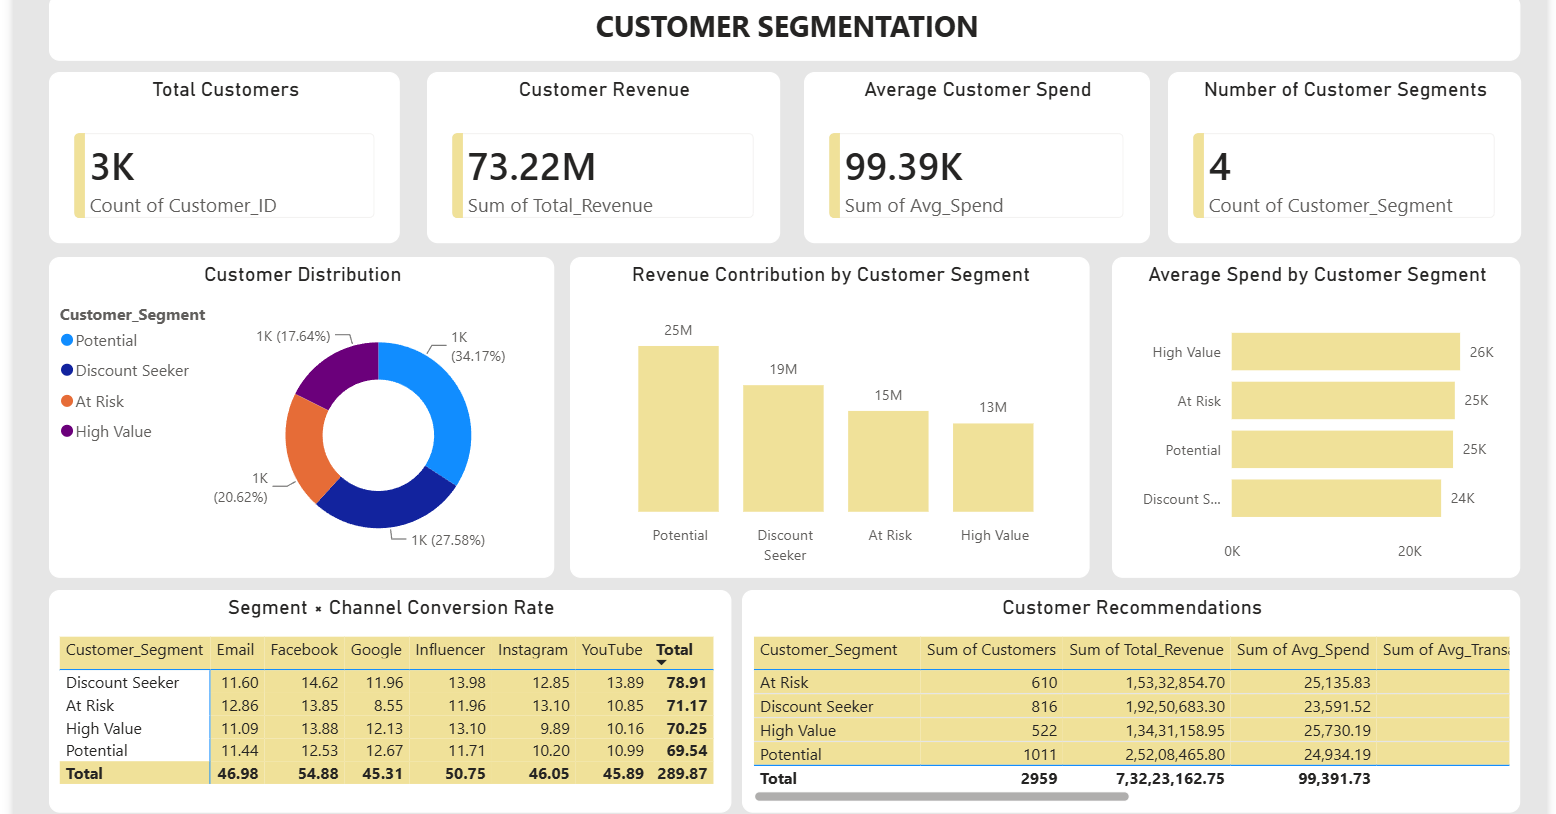

The page's visual inventory and layout, read from the dashboard file:
{"tool":"powerbi","page":{"name":"Customer Segmentation","canvas":[1280,720],"ordinal":5},"visuals":[{"type":"cardVisual","title":"Total Customers","fields":{"Data":["CountNonNull(marketing_campaign customers.Customer_ID)"]},"box":[29,83.2,293.5,143.1],"z":0},{"type":"cardVisual","title":"Customer Revenue","fields":{"Data":["Sum(segment_recommendations.Total_Revenue)"]},"box":[345,83.2,294.7,143.1],"z":1000},{"type":"cardVisual","title":"Average Customer Spend","fields":{"Data":["Sum(segment_recommendations.Avg_Spend)"]},"box":[659.9,83.2,288.6,143.1],"z":2000},{"type":"cardVisual","title":"Number of Customer Segments","fields":{"Data":["CountNonNull(segment_recommendations.Customer_Segment)"]},"box":[963.9,83.2,294.7,143.1],"z":3000},{"type":"textbox","box":[29,19.3,1229.4,55.5],"z":4000},{"type":"donutChart","title":"Customer Distribution","fields":{"Category":["segment_recommendations.Customer_Segment"],"Y":["Sum(segment_recommendations.Customers)"]},"box":[29,237.7,422.3,267.8],"z":5000},{"type":"clusteredColumnChart","title":"Revenue Contribution by Customer Segment","fields":{"Category":["segment_recommendations.Customer_Segment"],"Y":["Sum(segment_recommendations.Total_Revenue)"]},"box":[464.5,237.7,434.1,267.8],"z":6000},{"type":"barChart","title":"Average Spend by Customer Segment","fields":{"Category":["segment_recommendations.Customer_Segment"],"Y":["Sum(segment_recommendations.Avg_Spend)"]},"box":[916.9,237.7,341.4,267.8],"z":7000},{"type":"pivotTable","title":"Segment × Channel Conversion Rate","fields":{"Columns":["segment_channel_recommendations.Acquisition_Channel"],"Rows":["segment_channel_recommendations.Customer_Segment"],"Values":["Sum(segment_channel_recommendations.Conversion_Rate)"]},"box":[29,516.4,569.8,185.9],"z":8000},{"type":"tableEx","title":"Customer Recommendations","fields":{"Values":["segment_recommendations.Customer_Segment","Sum(segment_recommendations.Customers)","Sum(segment_recommendations.Total_Revenue)","Sum(segment_recommendations.Avg_Spend)","Sum(segment_recommendations.Avg_Transactions)","Sum(segment_recommendations.Avg_Order_Value)","Sum(segment_recommendations.Avg_Recency)","segment_recommendations.Recommendation"]},"box":[608,516.4,650.3,185.8],"z":9000}]}

Visuals, with their boxes on the page's 1280x720 design canvas (x1, y1, x2, y2). These are canvas units, not pixel positions in the 1556x814 screenshot, which may show the page scaled, cropped or inside an application window:
"Total Customers" cardVisual: box(29, 83, 322, 226)
"Customer Revenue" cardVisual: box(345, 83, 640, 226)
"Average Customer Spend" cardVisual: box(660, 83, 948, 226)
"Number of Customer Segments" cardVisual: box(964, 83, 1259, 226)
textbox: box(29, 19, 1258, 75)
"Customer Distribution" donutChart: box(29, 238, 451, 506)
"Revenue Contribution by Customer Segment" clusteredColumnChart: box(464, 238, 899, 506)
"Average Spend by Customer Segment" barChart: box(917, 238, 1258, 506)
"Segment × Channel Conversion Rate" pivotTable: box(29, 516, 599, 702)
"Customer Recommendations" tableEx: box(608, 516, 1258, 702)
